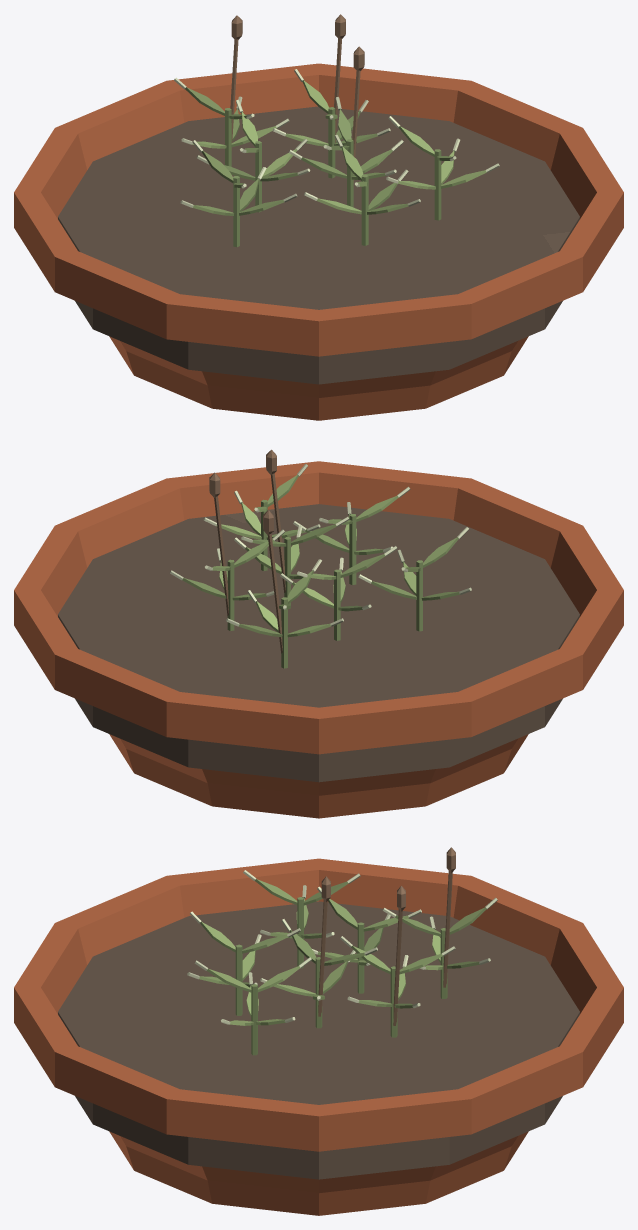
File: moss-muralis.glb
3 views of the same model, one above another, from view 1: azimuth 30°, elevation 25°; view 2: azimuth 150°, elevation 25°; view 3: azimuth 270°, elevation 25° (orthographic).
Visible parts, largest first — view 1: moss-muralis/review-rooted-soil, moss-muralis/review-terra-vessel; view 2: moss-muralis/review-rooted-soil, moss-muralis/review-terra-vessel, moss-muralis/sporophyte-seta-082; view 3: moss-muralis/review-rooted-soil, moss-muralis/review-terra-vessel, moss-muralis/sporophyte-seta-047, moss-muralis/sporophyte-seta-082, moss-muralis/sporophyte-seta-012, moss-muralis/moss-stem-025.
Part boxes in pixels (x1=…): moss-muralis/review-rooted-soil: x1=58, y1=106, x2=579, y2=384; moss-muralis/review-terra-vessel: x1=14, y1=63, x2=623, y2=420; moss-muralis/review-rooted-soil: x1=58, y1=504, x2=579, y2=782; moss-muralis/review-terra-vessel: x1=14, y1=461, x2=623, y2=818; moss-muralis/sporophyte-seta-082: x1=267, y1=533, x2=282, y2=653; moss-muralis/review-rooted-soil: x1=58, y1=901, x2=579, y2=1179; moss-muralis/review-terra-vessel: x1=14, y1=858, x2=623, y2=1215; moss-muralis/sporophyte-seta-047: x1=393, y1=909, x2=402, y2=1025; moss-muralis/sporophyte-seta-082: x1=443, y1=871, x2=452, y2=987; moss-muralis/sporophyte-seta-012: x1=318, y1=900, x2=327, y2=1016; moss-muralis/moss-stem-025: x1=235, y1=944, x2=242, y2=1015.
Bounding box in the file's own units: 0.25 × 0.1225 × 0.25.
6 materials, 6 textured.
